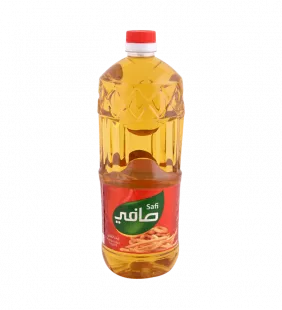Promotion: (91, 20, 196, 284)
